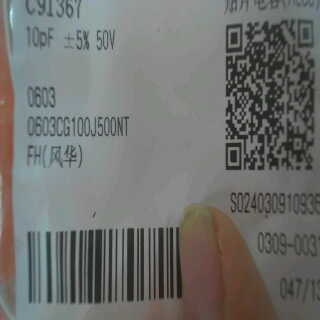10pF: (23, 21, 60, 52)
